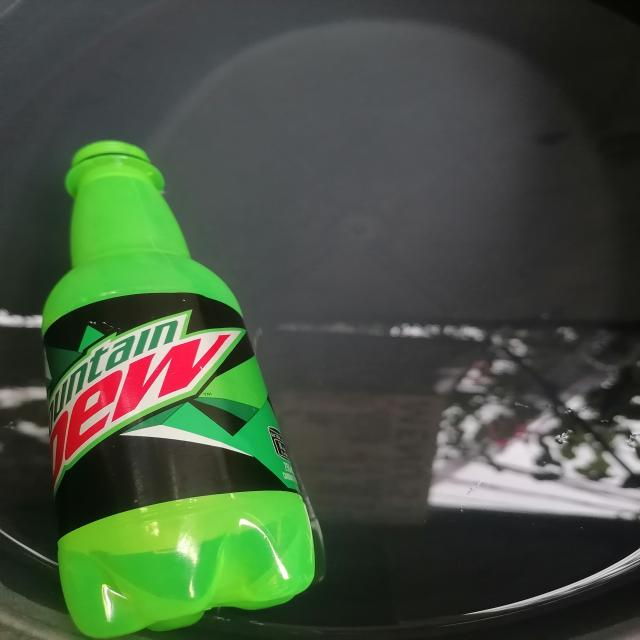Plastic Bottle: (0, 115, 348, 640)
